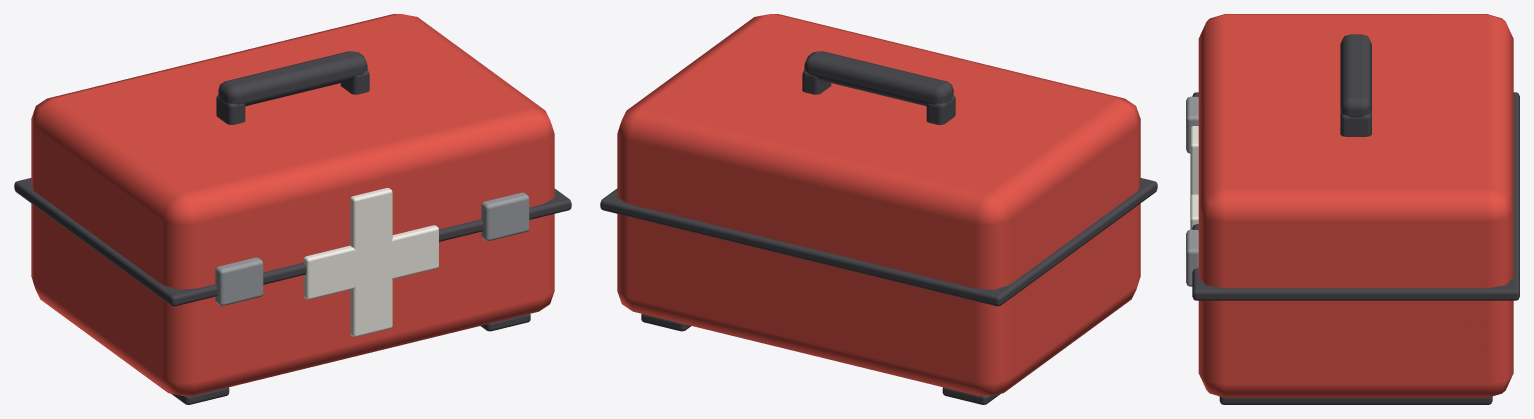
File: medkit.glb
3 renders of one model, left to right at view 1: azimuth 30°, elevation 25°; view 2: azimuth 150°, elevation 25°; view 3: azimuth 270°, elevation 25°, orthographic. The views are drawn at different scales.
Parts seen in each view (by area): view 1: m_shell, m_crossh, m_seam, m_crossv, m_handle, m_latch1, m_latch-1, m_post-1; view 2: m_shell, m_seam, m_handle, m_post-1; view 3: m_shell, m_seam, m_handle, m_foot1, m_post1, m_latch1, m_crossv, m_latch-1.
Boxes of the visible parts, x1,y1,x2,y2 form: m_shell: [31, 14, 554, 396]; m_crossh: [303, 225, 438, 299]; m_seam: [14, 178, 571, 306]; m_crossv: [350, 188, 392, 336]; m_handle: [218, 51, 367, 106]; m_latch1: [481, 192, 529, 240]; m_latch-1: [215, 257, 263, 305]; m_post-1: [216, 95, 245, 124]; m_shell: [617, 14, 1140, 396]; m_seam: [600, 178, 1157, 306]; m_handle: [804, 51, 953, 106]; m_post-1: [926, 95, 955, 124]; m_shell: [1198, 14, 1513, 397]; m_seam: [1192, 92, 1519, 300]; m_handle: [1340, 34, 1371, 117]; m_foot1: [1219, 396, 1492, 404]; m_post1: [1340, 112, 1371, 136]; m_latch1: [1186, 229, 1198, 286]; m_crossv: [1190, 126, 1198, 195]; m_latch-1: [1186, 96, 1198, 153].
Bounding box in the file's own units: 0.452 × 0.2675 × 0.318.
